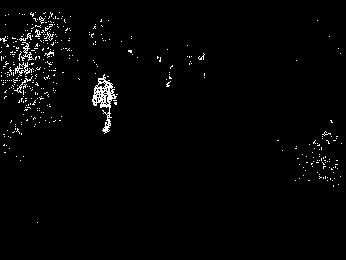person: (92, 73, 118, 133)
